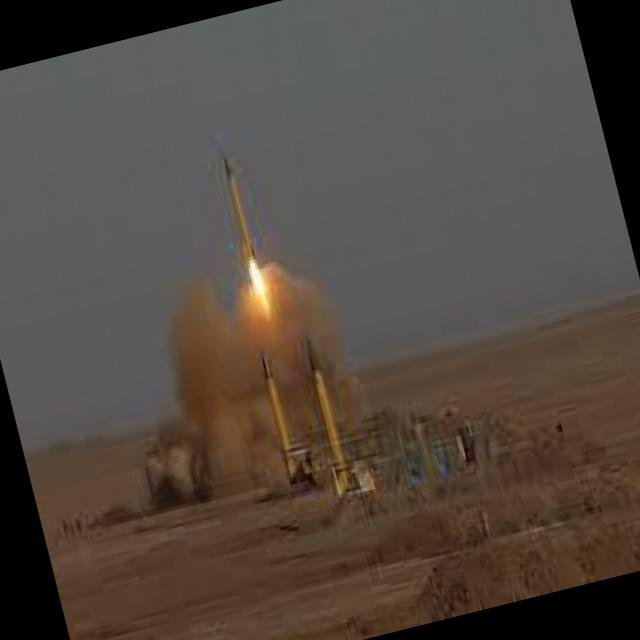rocket: (204, 136, 320, 483)
